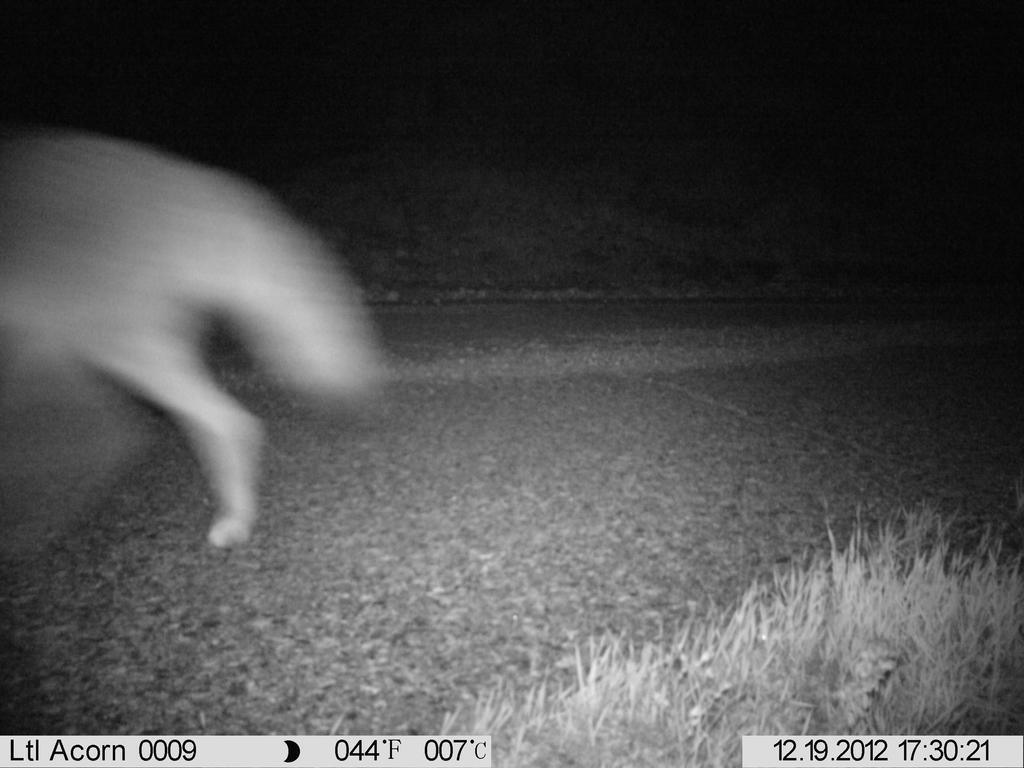coyote: (1, 119, 413, 577)
